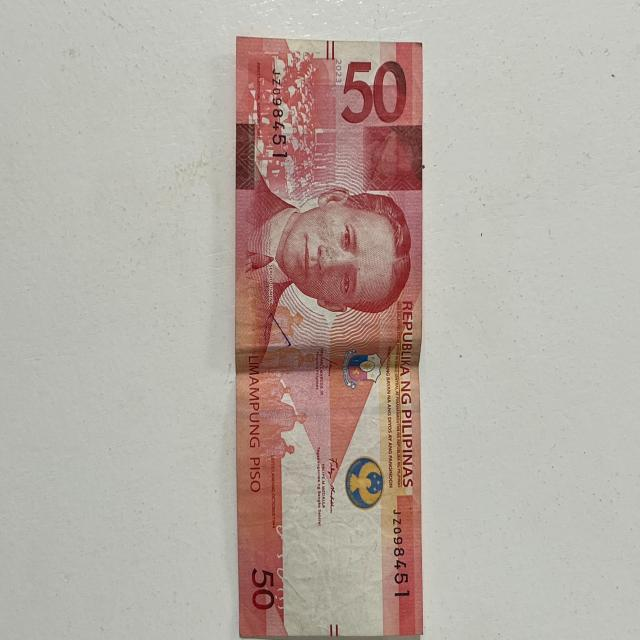concealed_value: (360, 124, 422, 195)
security_thread: (238, 400, 417, 429)
see_through_mark: (272, 516, 298, 628)
serial_number: (265, 58, 297, 170), (385, 504, 417, 605)
value: (336, 49, 408, 133)
